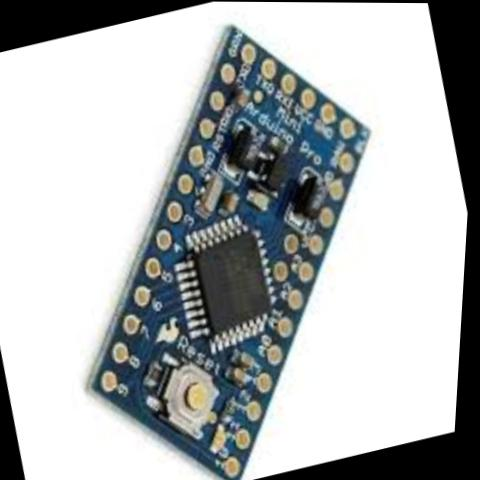Arduino-Pro-Mini: (0, 0, 465, 480)
